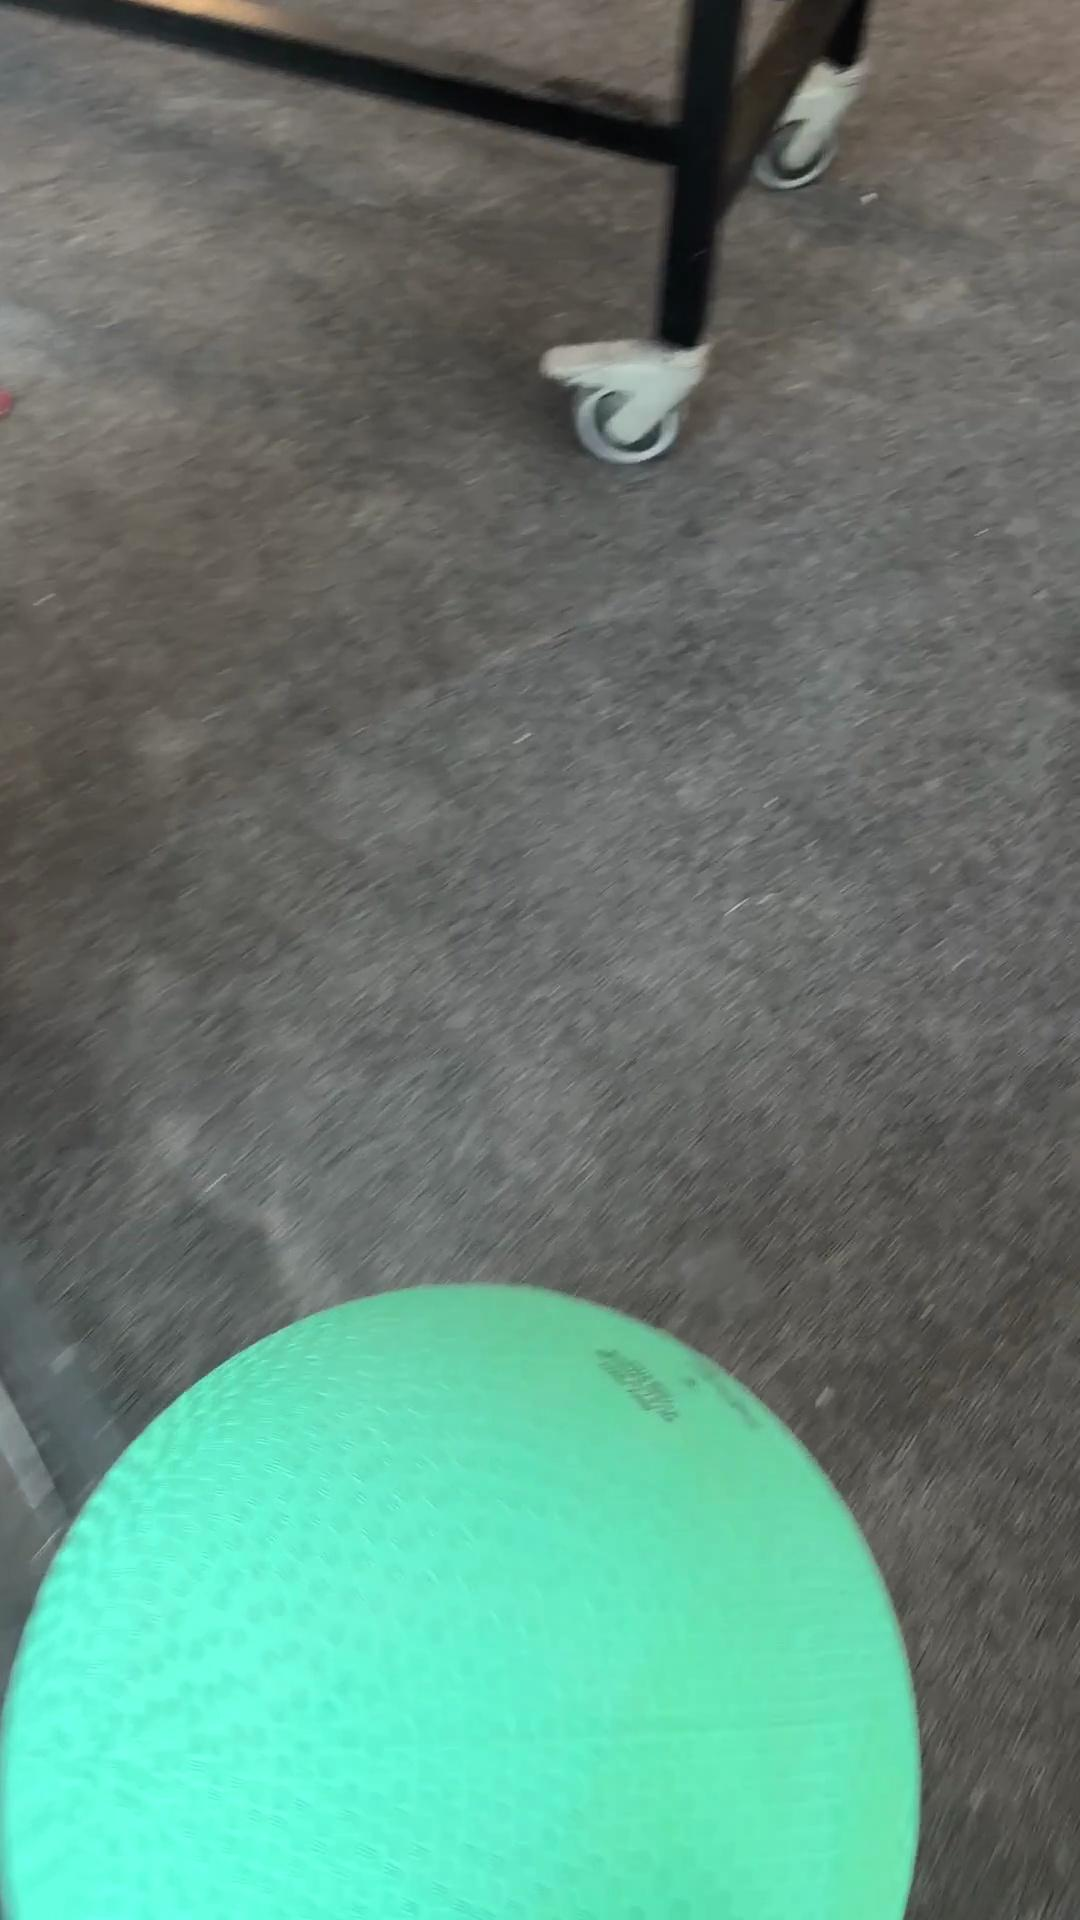ALGAE: (3, 1276, 924, 1916)
